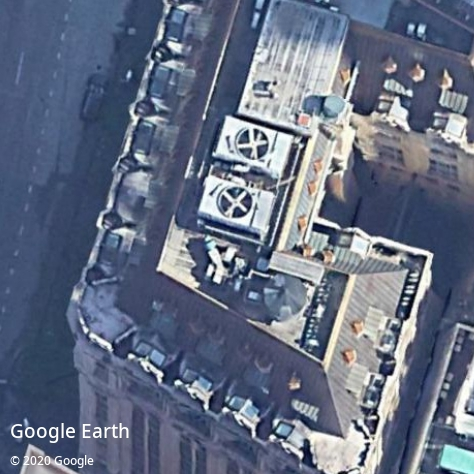Vent: (217, 185, 252, 218), (236, 127, 269, 160)
